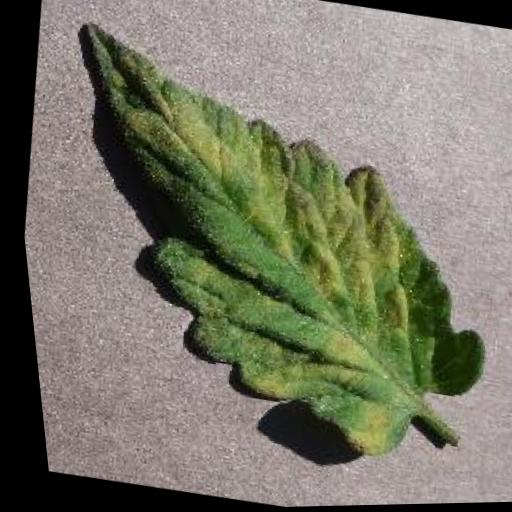Leaf Mold: (14, 10, 512, 484)
